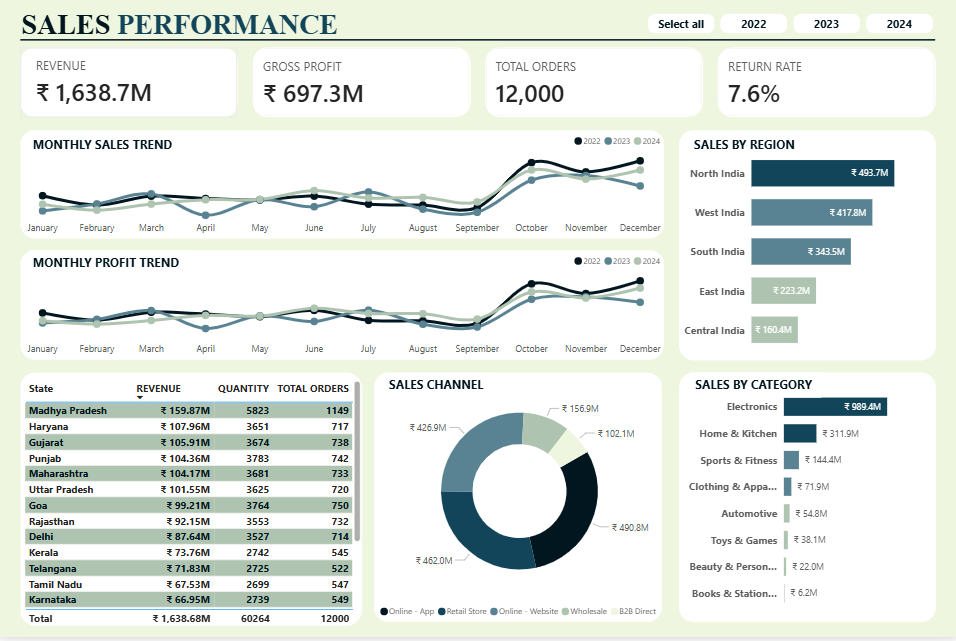

The dashboard page shown, as its layout file describes it:
{"tool":"powerbi","page":{"name":"SALES PERFORMANCE","canvas":[1280,850],"ordinal":0},"visuals":[{"type":"textbox","box":[25,6.2,432.5,53.8],"z":0},{"type":"shape","box":[28.8,45,1220,16.2],"z":1000},{"type":"cardVisual","fields":{"Data":["Sum(sales_data.Net_Sales)"]},"box":[28.8,63.8,290,92.5],"z":2000},{"type":"cardVisual","fields":{"Data":["sales_data.RETURN RATE"]},"box":[958.8,63.8,290,92.5],"z":3000},{"type":"cardVisual","fields":{"Data":["Sum(sales_data.Gross_Profit)"]},"box":[338.8,63.8,290,92.5],"z":4000},{"type":"cardVisual","fields":{"Data":["Count(sales_data.Order_ID)"]},"box":[648.8,63.8,290,92.5],"z":5000},{"type":"lineChart","fields":{"Y":["Sum(sales_data.Net_Sales)"],"Category":["sales_data.Order_Date.Variation.Date Hierarchy.Month"],"Series":["sales_data.Year"]},"box":[28.8,172.9,858.8,145],"z":6000},{"type":"lineChart","fields":{"Category":["sales_data.Order_Date.Variation.Date Hierarchy.Month"],"Series":["sales_data.Year"],"Y":["Sum(sales_data.Gross_Profit)"]},"box":[28.8,334.2,858.8,146.2],"z":7000},{"type":"textbox","box":[40,175.9,205,33.8],"z":8000},{"type":"textbox","box":[40,334.2,218.8,33.8],"z":9000},{"type":"barChart","fields":{"Category":["sales_data.Region"],"Y":["Sum(sales_data.Net_Sales)"]},"box":[906.2,172.9,342.5,307.5],"z":10000},{"type":"textbox","box":[922.5,175.9,205,33.8],"z":11000},{"type":"donutChart","fields":{"Y":["Sum(sales_data.Net_Sales)"],"Category":["sales_data.Sales_Channel"]},"box":[500,496.2,383.8,332.5],"z":12000},{"type":"textbox","box":[515,496.2,150,33.8],"z":13000},{"type":"tableEx","fields":{"Values":["sales_data.State","Sum(sales_data.Net_Sales)","Sum(sales_data.Quantity)","sales_data.Order_ID"]},"box":[28.8,496.2,455,337.5],"z":14000},{"type":"barChart","fields":{"Y":["Sum(sales_data.Net_Sales)"],"Category":["sales_data.Category"]},"box":[906.2,496.2,342.5,332.5],"z":15000},{"type":"textbox","box":[922.5,496.2,172.5,33.8],"z":16000},{"type":"advancedSlicerVisual","fields":{"Values":["sales_data.Year"]},"box":[865,18.8,383.8,26.2],"z":17000}]}

Visuals, with their boxes in screenshot pixels (x1, y1, x2, y2), scaled from the page's 1280x850 canvas onto the 956x641 screenshot:
textbox: region(19, 5, 342, 45)
shape: region(22, 34, 933, 46)
cardVisual - Sum(sales_data.Net_Sales): region(22, 48, 238, 118)
cardVisual - sales_data.RETURN RATE: region(716, 48, 933, 118)
cardVisual - Sum(sales_data.Gross_Profit): region(253, 48, 470, 118)
cardVisual - Count(sales_data.Order_ID): region(485, 48, 701, 118)
lineChart - Sum(sales_data.Net_Sales) x sales_data.Order_Date.Variation.Date Hierarchy.Month: region(22, 130, 663, 240)
lineChart - sales_data.Order_Date.Variation.Date Hierarchy.Month x sales_data.Year: region(22, 252, 663, 362)
textbox: region(30, 133, 183, 158)
textbox: region(30, 252, 193, 278)
barChart - sales_data.Region x Sum(sales_data.Net_Sales): region(677, 130, 933, 362)
textbox: region(689, 133, 842, 158)
donutChart - Sum(sales_data.Net_Sales) x sales_data.Sales_Channel: region(373, 374, 660, 625)
textbox: region(385, 374, 497, 400)
tableEx - sales_data.State x Sum(sales_data.Net_Sales): region(22, 374, 361, 629)
barChart - Sum(sales_data.Net_Sales) x sales_data.Category: region(677, 374, 933, 625)
textbox: region(689, 374, 818, 400)
advancedSlicerVisual - sales_data.Year: region(646, 14, 933, 34)
